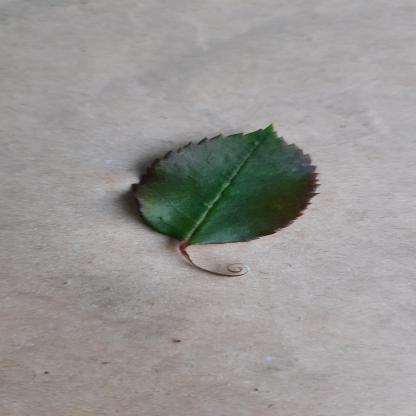powdery-mildew: (120, 119, 330, 249)
